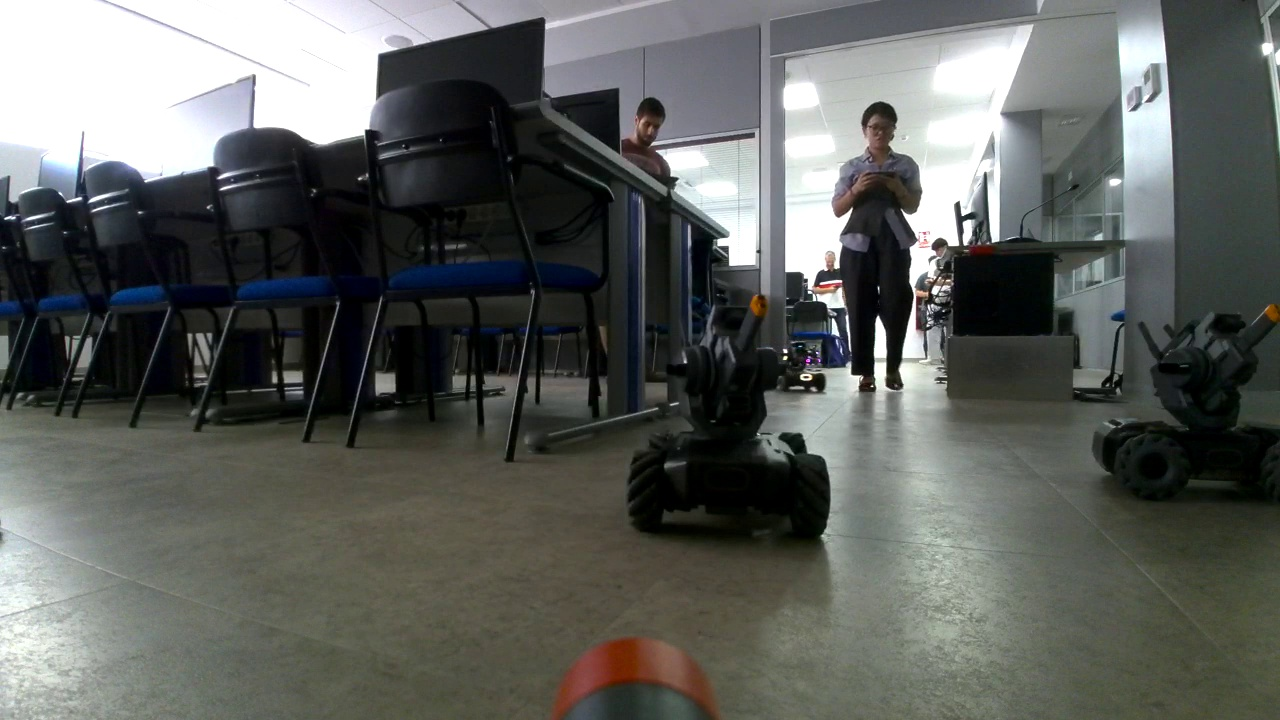robot: (627, 297, 829, 533), (1090, 301, 1280, 498), (773, 340, 826, 393), (805, 342, 822, 365)
